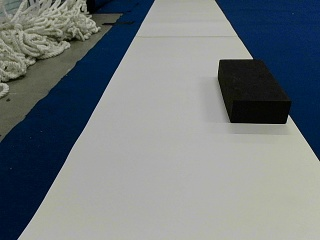block: (217, 59, 289, 123)
